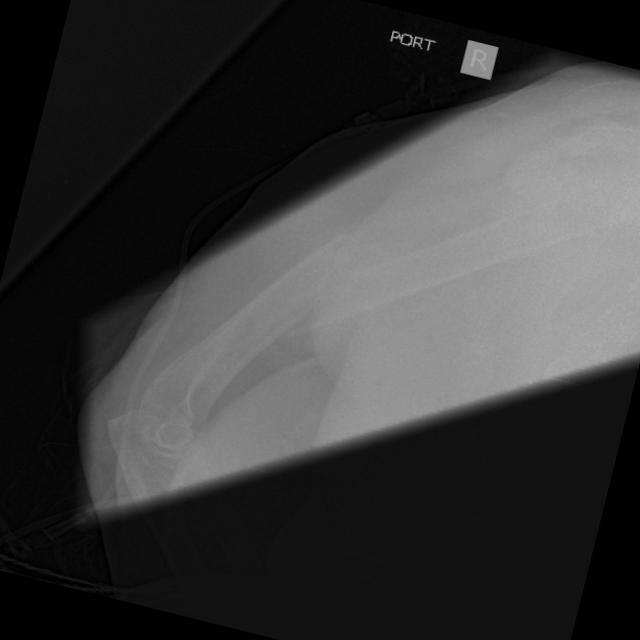humerus fracture: (255, 192, 453, 380)
